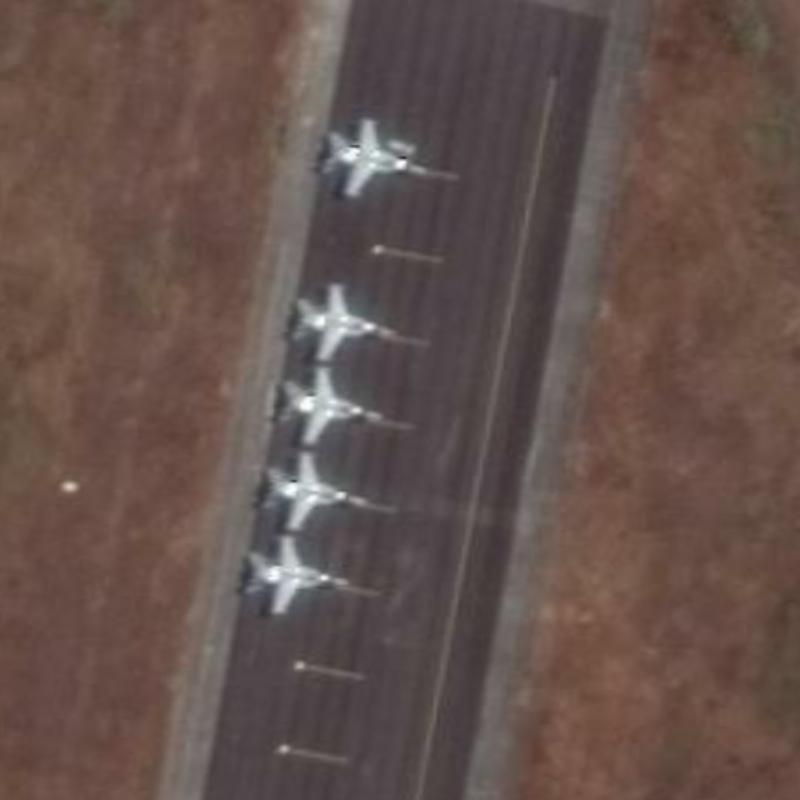A16: (309, 107, 438, 212), (282, 276, 402, 371), (248, 449, 376, 538), (264, 364, 396, 449), (230, 530, 354, 620)
